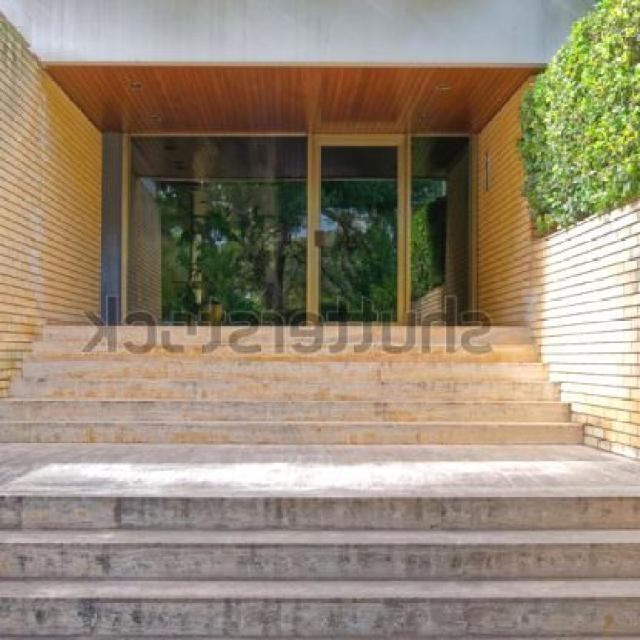stair: (1, 212, 640, 638)
